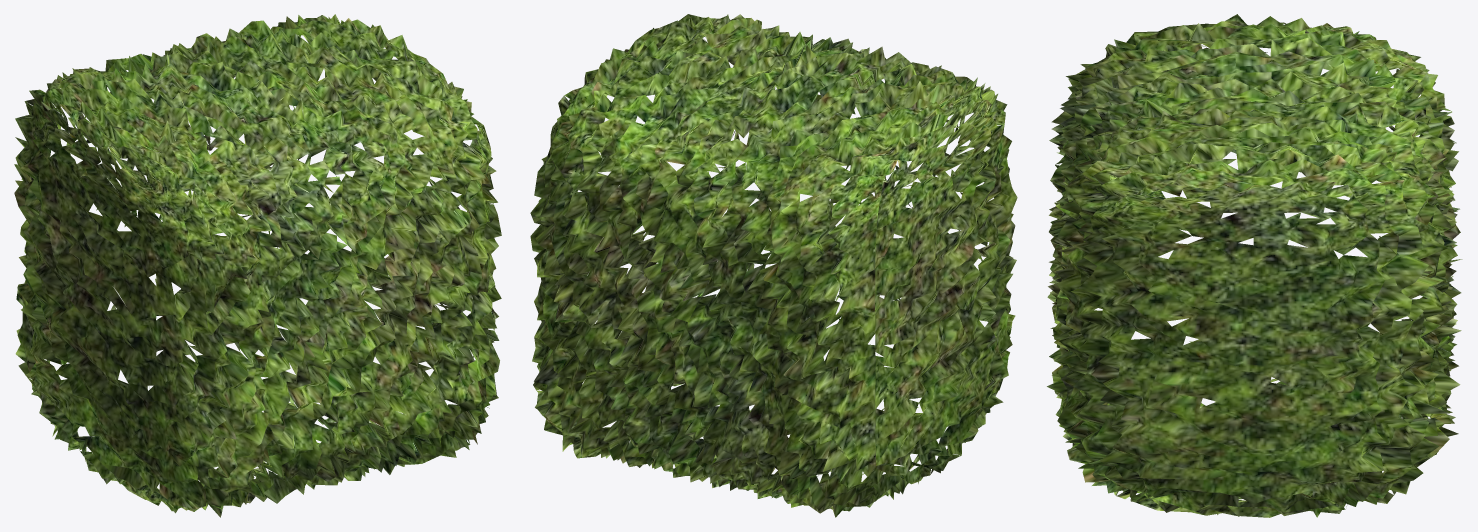
Rendered from sh-scopia-hedge-textured.glb.
3 renders of one model, left to right at view 1: azimuth 30°, elevation 25°; view 2: azimuth 150°, elevation 25°; view 3: azimuth 270°, elevation 25°, orthographic.
Parts seen in each view (by area): view 1: Cube.001; view 2: Cube.001; view 3: Cube.001.
Part boxes in pixels (left/top/right/bottom): Cube.001: left=14, top=14, right=501, bottom=517; Cube.001: left=530, top=14, right=1017, bottom=517; Cube.001: left=1047, top=14, right=1462, bottom=517.
Size of the model in its own units: 1 by 1 by 0.9995.
Materials: 1 (1 with a texture image).
